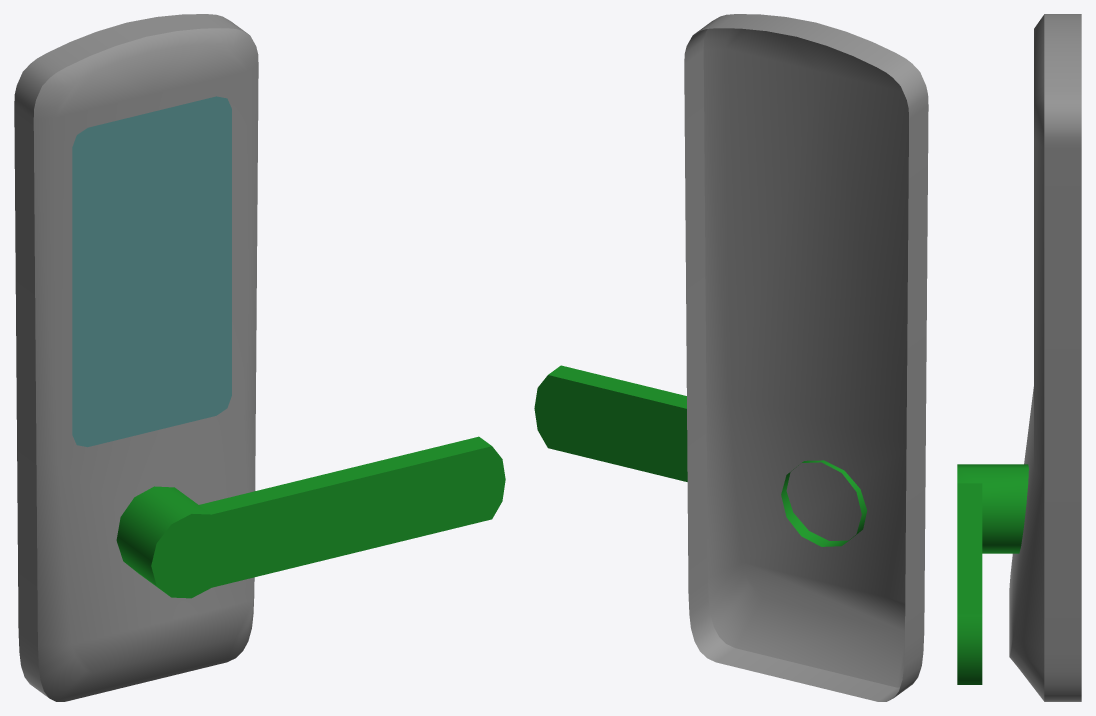
The model's file is door lock2.fbx.
3 views of the same model, side by side, from view 1: azimuth 30°, elevation 25°; view 2: azimuth 150°, elevation 25°; view 3: azimuth 270°, elevation 25° (orthographic). The views are drawn at different scales.
Parts seen in each view (by area): view 1: doorlock2; view 2: doorlock2; view 3: doorlock2.
Boxes of the visible parts, x1,y1,x2,y2 form: doorlock2: (14,14,505,701); doorlock2: (534,14,928,701); doorlock2: (957,14,1081,701).
Bounding box in the file's own units: 15.83 × 22.9 × 4.17.
